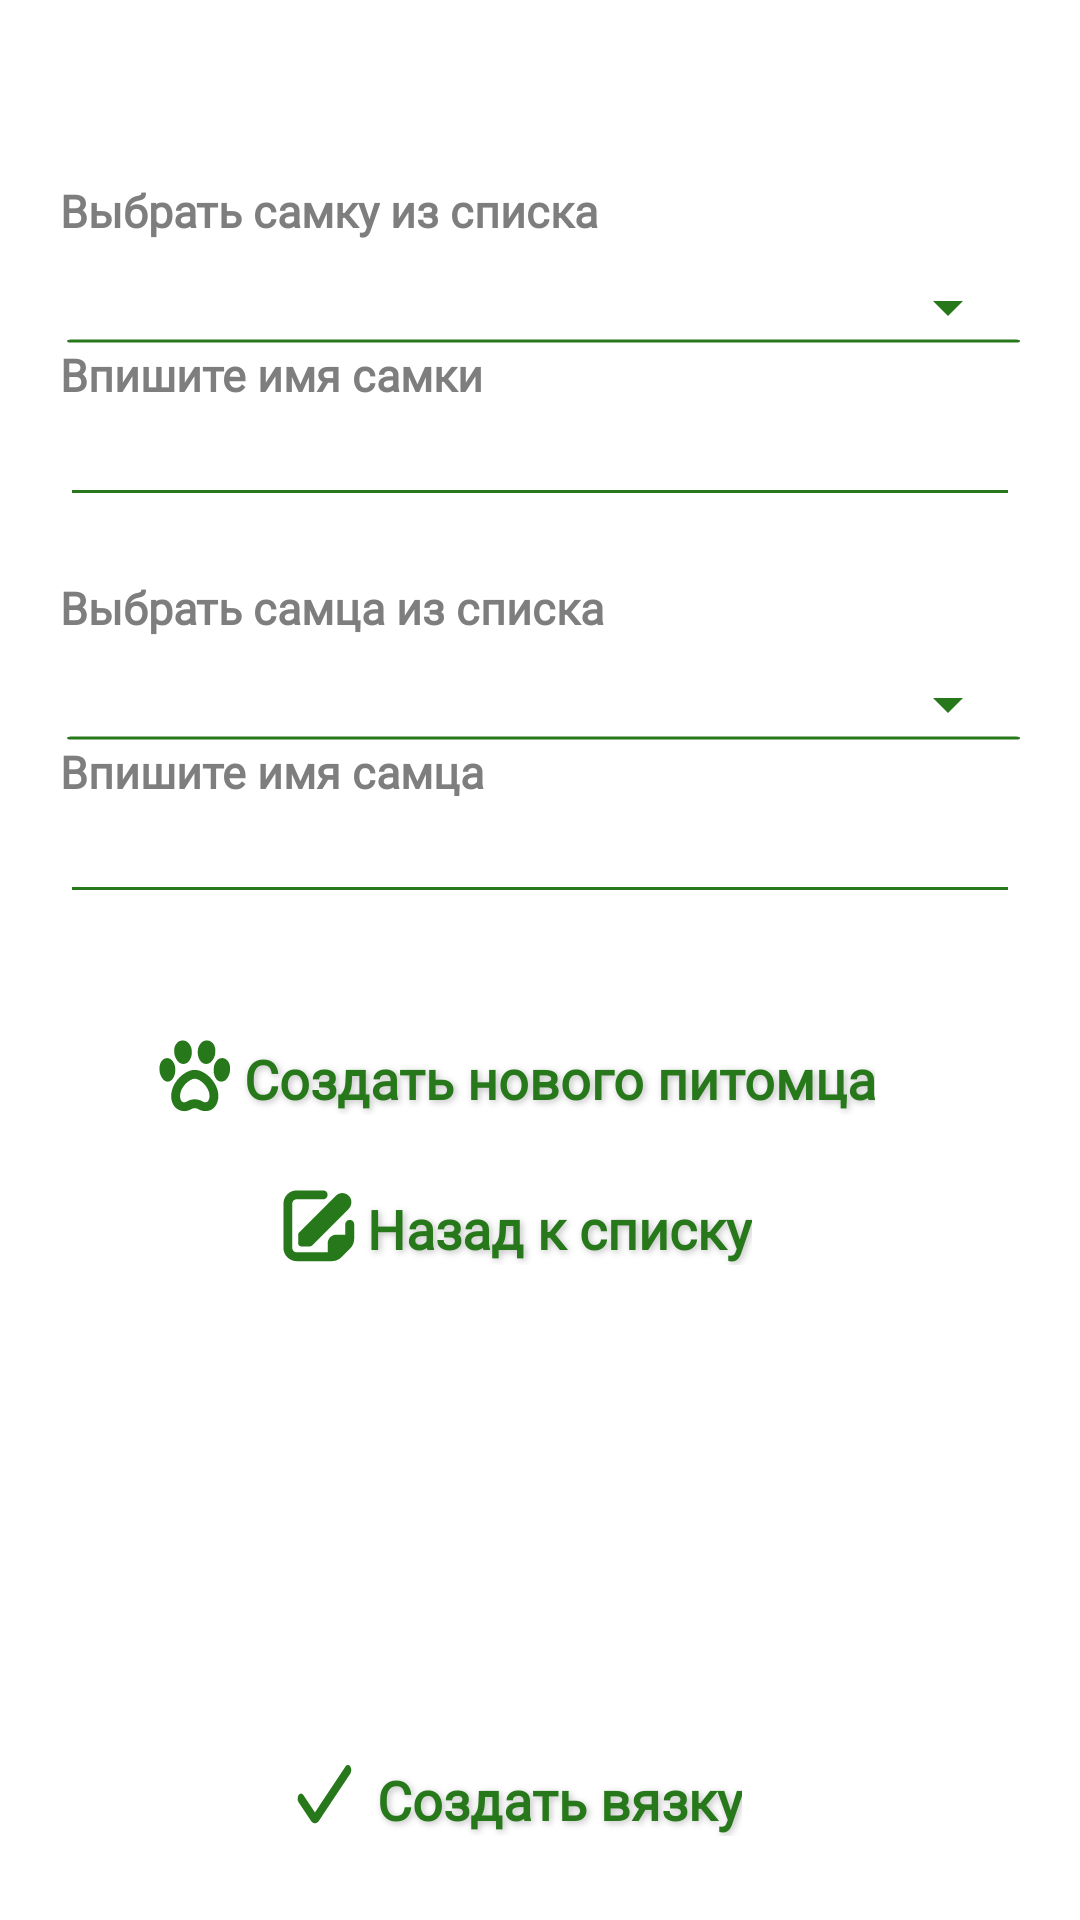

Icons on this 1080w x 1920h Android screen, each with its box as rect(x1, y1, x2, y2):
choice: rect(297, 1765, 352, 1824)
note: rect(283, 1190, 355, 1262)
paw: rect(159, 1040, 230, 1112)
